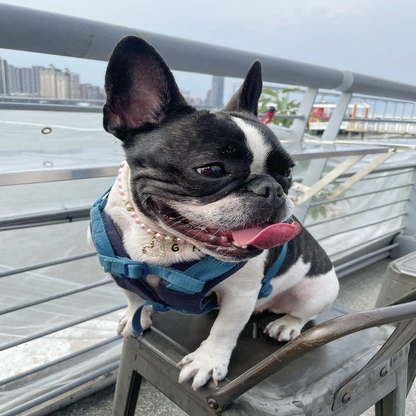bulldog: (85, 34, 343, 393)
